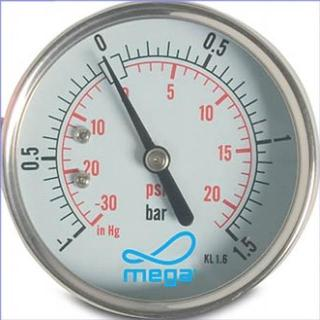gauge: (1, 1, 319, 319), (54, 209, 122, 259), (197, 212, 255, 262), (142, 144, 171, 174), (97, 51, 112, 69)
